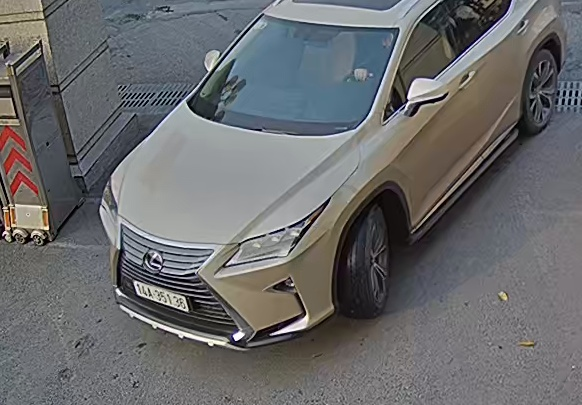vehicle plate: (130, 276, 196, 315)
